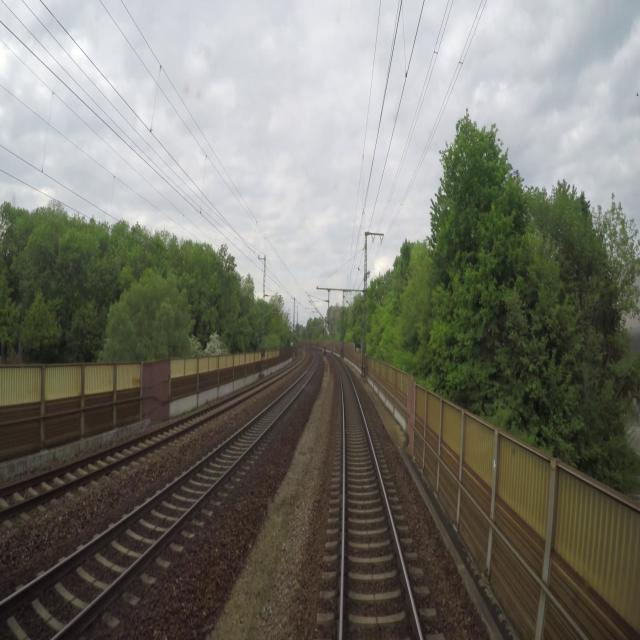rail-track: (0, 353, 317, 639), (0, 403, 227, 506), (338, 361, 418, 639)
